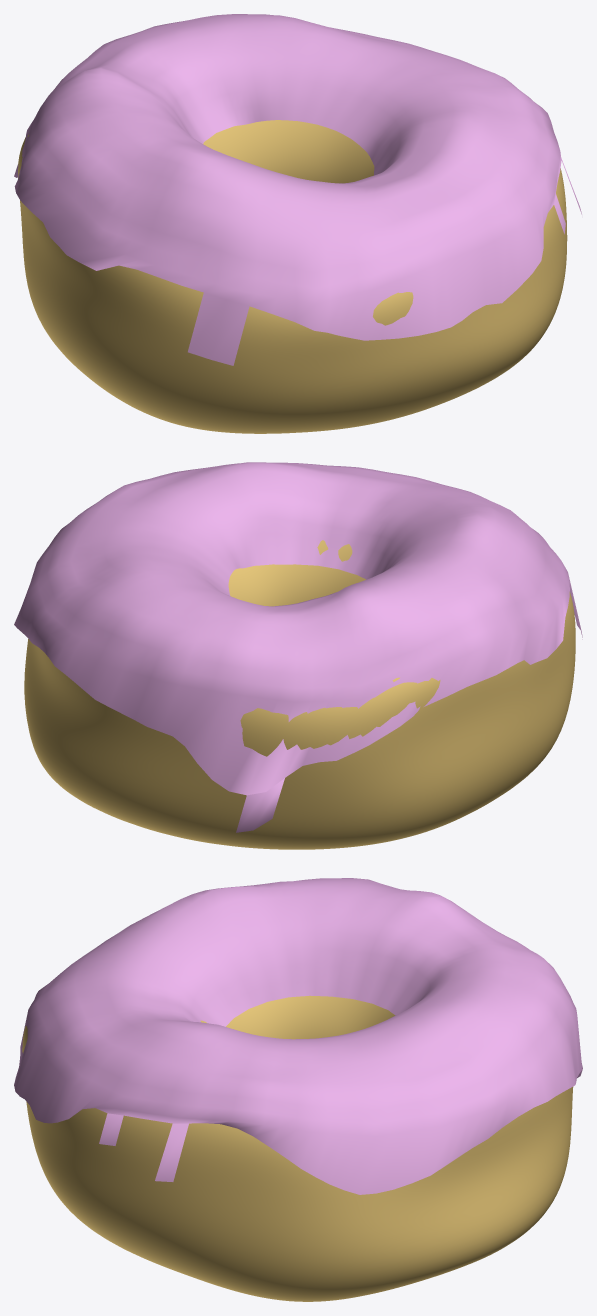
File: donut.gltf
The picture shows the model from 3 angles, top to bottom: view 1: azimuth 30°, elevation 25°; view 2: azimuth 150°, elevation 25°; view 3: azimuth 270°, elevation 25°; orthographic projection. The views are drawn at different scales.
Parts seen in each view (by area): view 1: Icing, Donut; view 2: Icing, Donut; view 3: Icing, Donut.
Boxes of the visible parts, x1=… form: Icing: x1=14, y1=14, x2=581, y2=365; Donut: x1=18, y1=120, x2=567, y2=433; Icing: x1=14, y1=462, x2=582, y2=832; Donut: x1=24, y1=540, x2=575, y2=849; Icing: x1=14, y1=878, x2=582, y2=1194; Donut: x1=22, y1=995, x2=573, y2=1301.
Size of what is drawn, in the model's own units: 0.1519 by 0.0763 by 0.1572.
